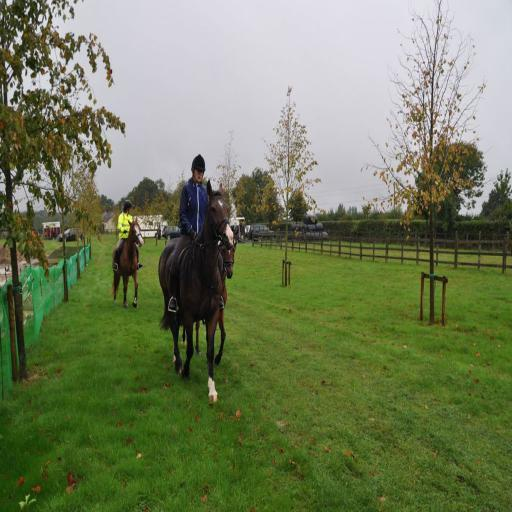horse: (156, 175, 235, 405), (181, 226, 236, 367), (110, 216, 146, 308)
